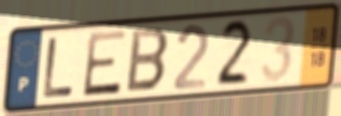2: (215, 17, 256, 90), (171, 22, 211, 92)
3: (259, 13, 300, 87)
B: (124, 26, 172, 95)
E: (80, 27, 129, 99)
L: (41, 34, 77, 100)
